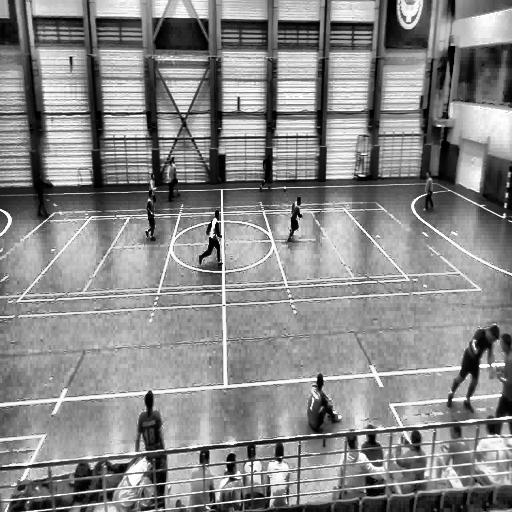ball: (282, 184, 288, 194)
player: (447, 328, 499, 411), (136, 391, 166, 486), (307, 373, 342, 446), (198, 209, 224, 267), (285, 195, 302, 243), (258, 151, 272, 192), (145, 188, 156, 240), (421, 169, 434, 213), (166, 158, 177, 202), (172, 156, 182, 197), (148, 170, 157, 207)
